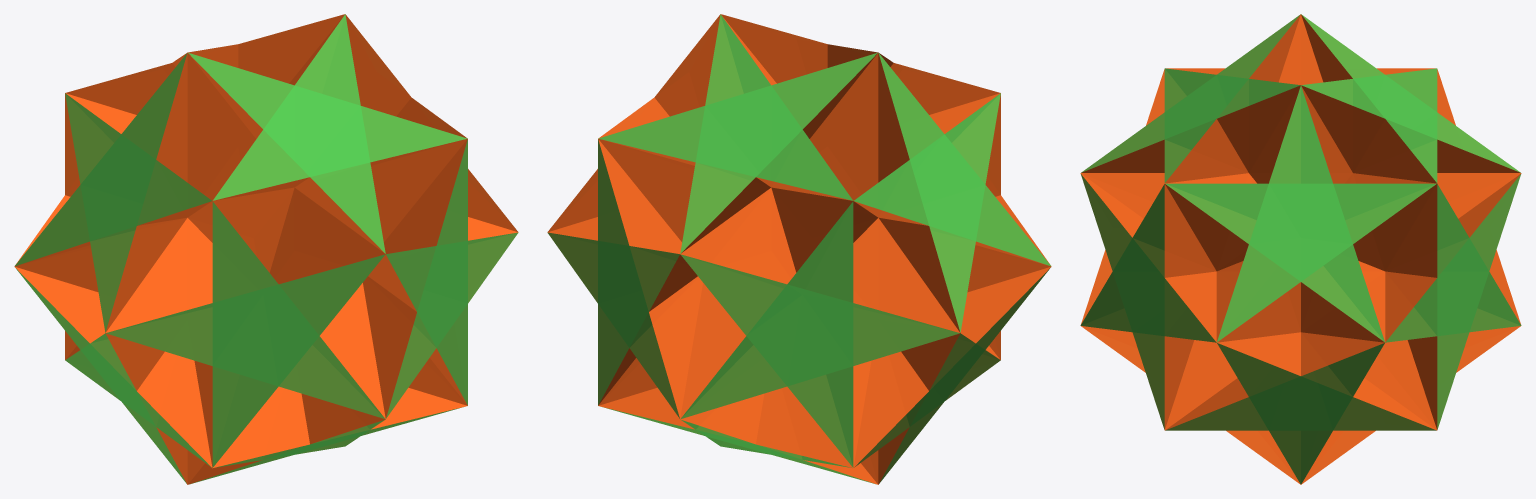
The model's file is DitrigonalDodecadodecahedron.obj.
3 views of the same model, side by side, from view 1: azimuth 30°, elevation 25°; view 2: azimuth 150°, elevation 25°; view 3: azimuth 270°, elevation 25° (orthographic). The views are drawn at different scales.
Size of the model in its own units: 1.62 by 1.62 by 1.62.
